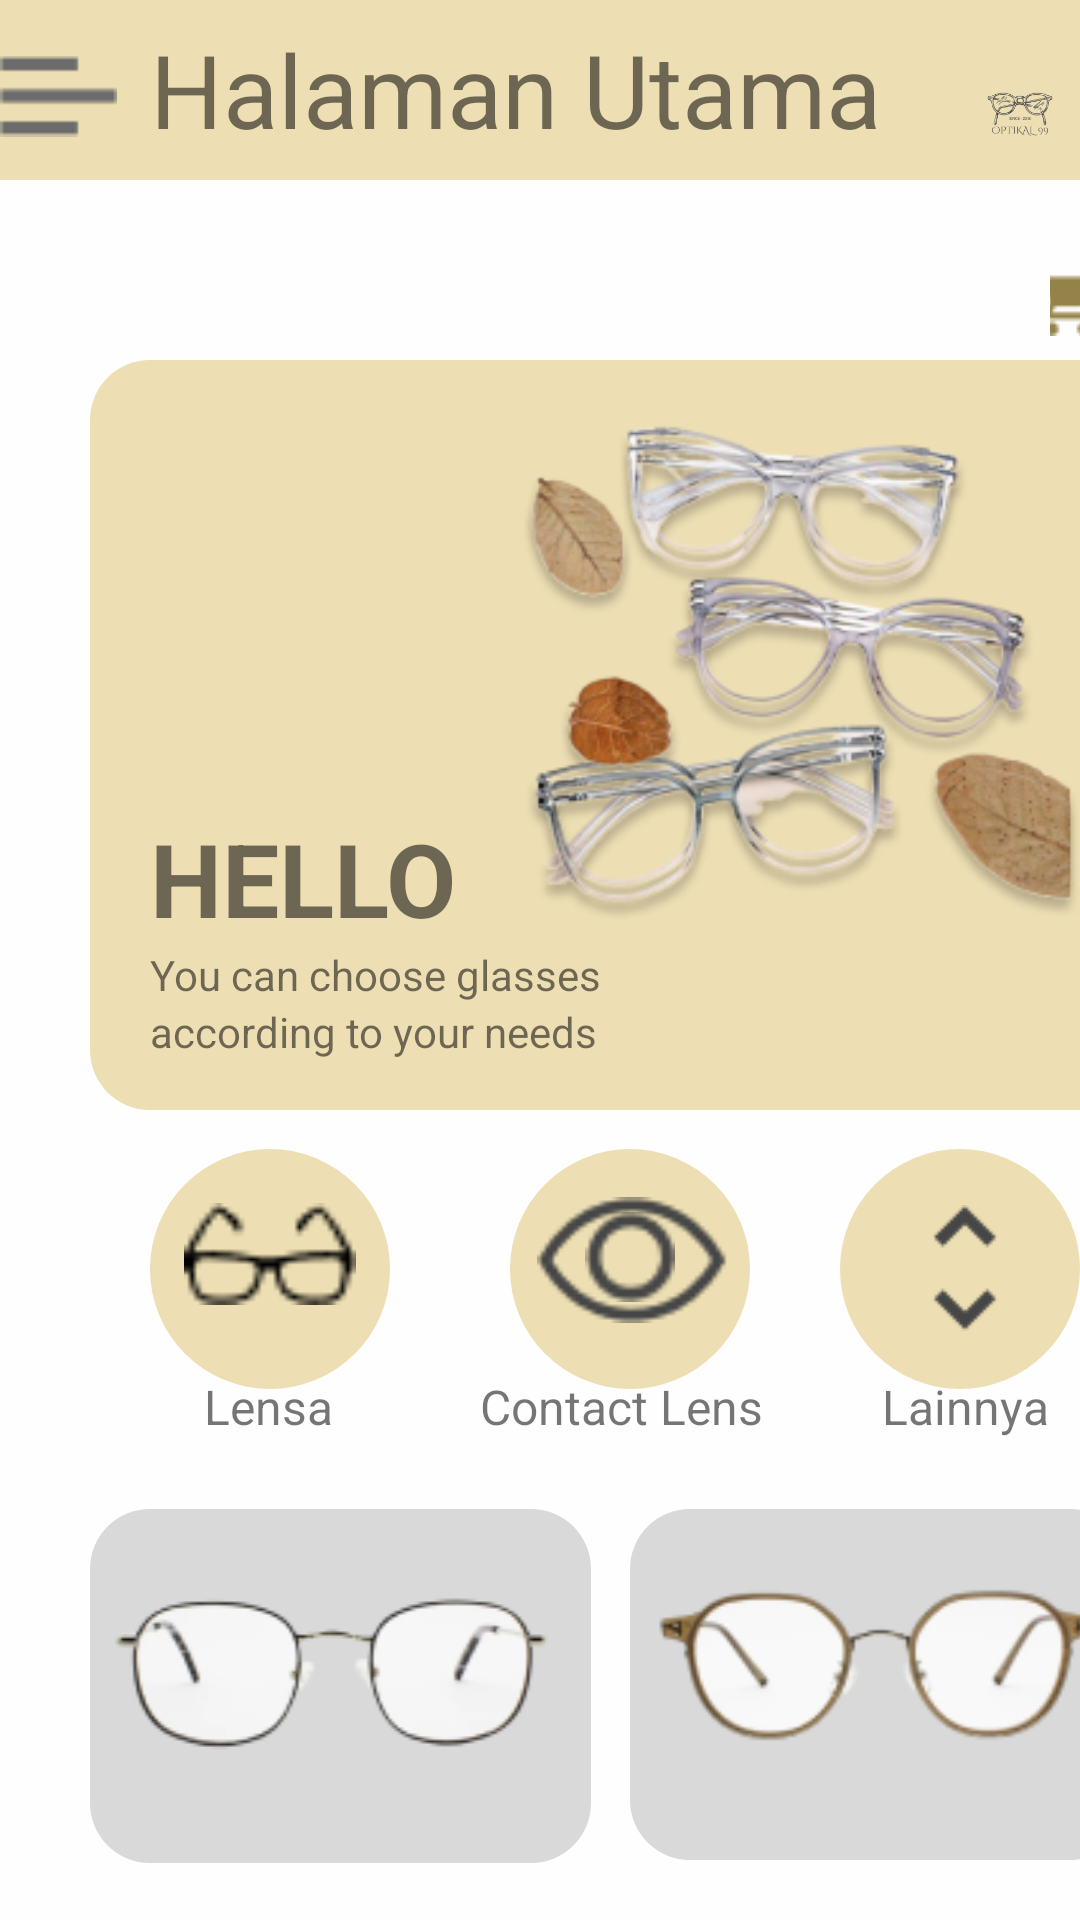

Named icons in this screenshot (1080x1920) and their bounding boxes, detection(x1, y1, x2, y2):
menu: detection(0, 56, 117, 137)
